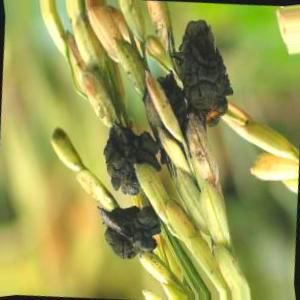Leaf_Scald: (179, 23, 230, 120), (102, 128, 156, 195), (99, 206, 176, 236)
